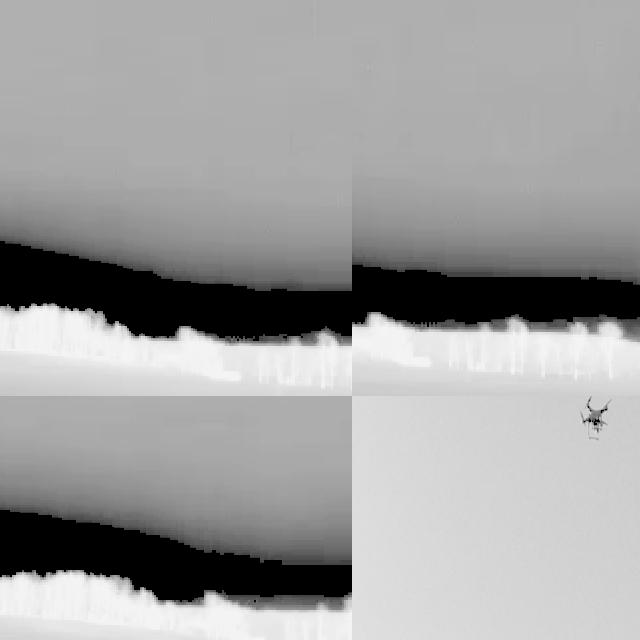drone: (575, 396, 612, 441)
